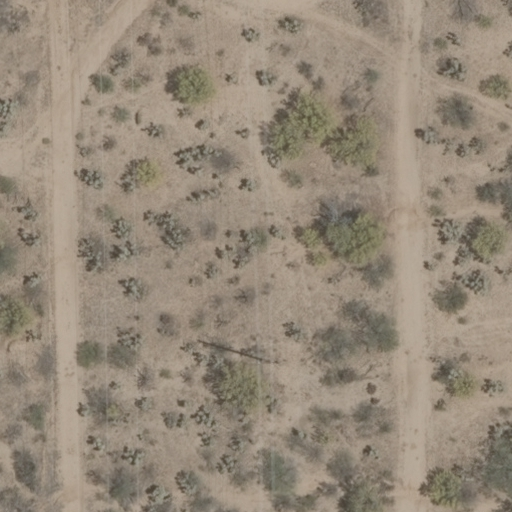DT: (252, 348, 284, 370)
